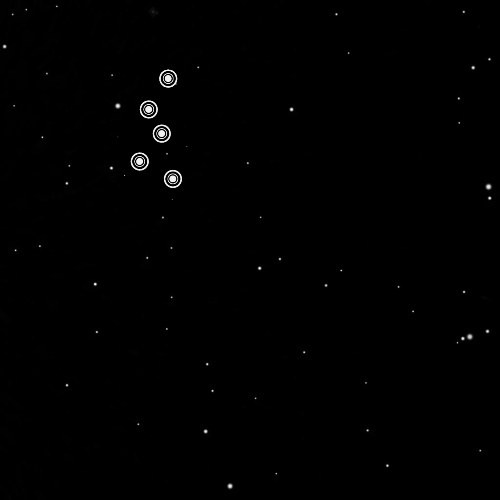cassiopeia: (120, 59, 193, 199)
